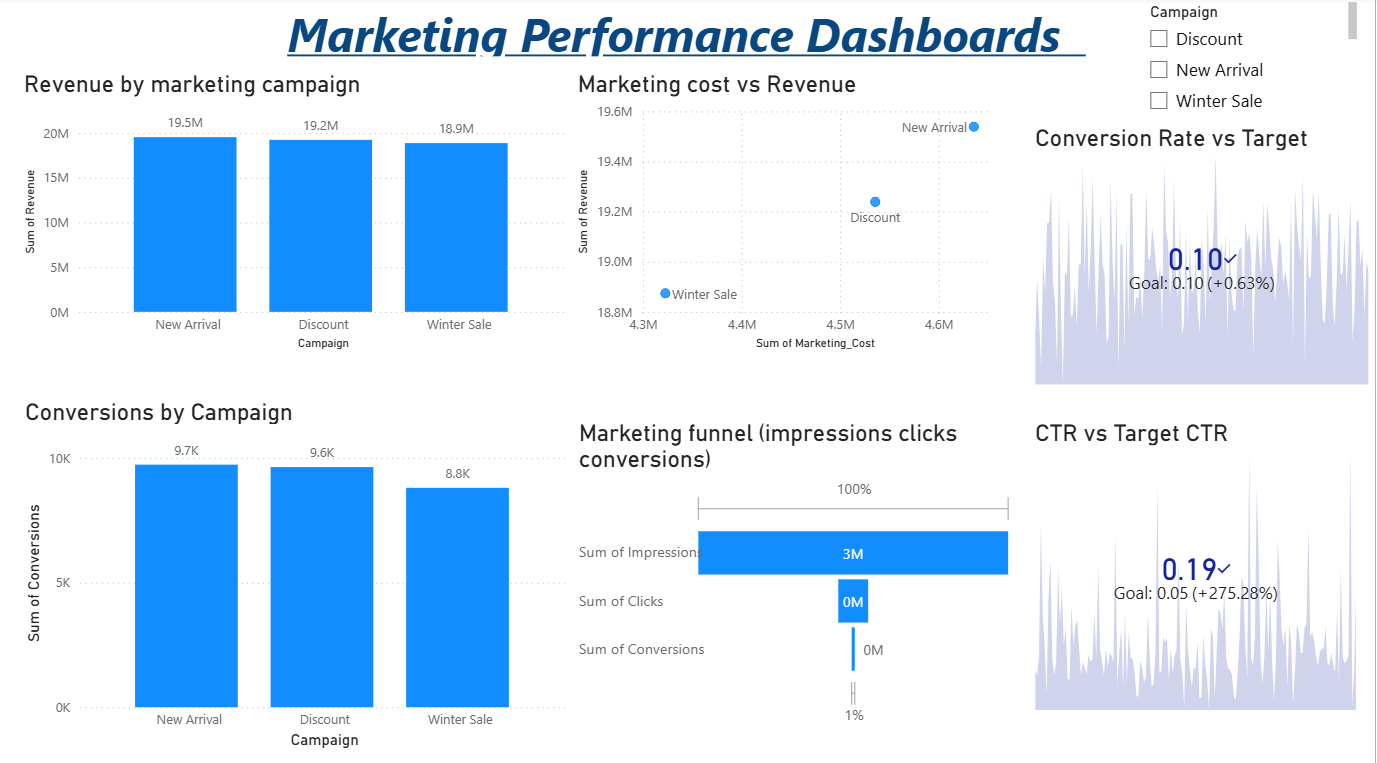

The dashboard page shown, as its layout file describes it:
{"tool":"powerbi","page":{"name":"marketing performance ","canvas":[1280,720],"ordinal":1},"visuals":[{"type":"columnChart","title":"Revenue by marketing campaign","fields":{"Category":["dim_campaign.Campaign"],"Y":["Sum(Fact_Marketing.Revenue)"]},"box":[17.1,68.6,515.7,264.3],"z":0},{"type":"columnChart","title":" Conversions by Campaign","fields":{"Category":["dim_campaign.Campaign"],"Y":["Sum(Fact_Marketing.Conversions)"]},"box":[18.6,372.9,515.7,331.4],"z":1000},{"type":"scatterChart","title":"Marketing cost vs Revenue ","fields":{"X":["Sum(Fact_Marketing.Marketing_Cost)"],"Y":["Sum(Fact_Marketing.Revenue)"],"Category":["Fact_Marketing.Campaign"]},"box":[532.9,68.6,405.7,264.3],"z":2000},{"type":"funnel","title":"Marketing funnel (impressions clicks conversions)","fields":{"Y":["Sum(Fact_Marketing.Impressions)","Sum(Fact_Marketing.Clicks)","Sum(Fact_Marketing.Conversions)"]},"box":[534.3,392.9,414.3,290],"z":3000},{"type":"kpi","title":"Conversion Rate vs Target","fields":{"TrendLine":["dim_date.Date"],"Goal":["Fact_Marketing.Target Conversion Rate"],"Indicator":["Fact_Marketing.Conversion Rate"]},"box":[958.6,118.6,320,247.1],"z":4000},{"type":"kpi","title":"CTR vs Target CTR ","fields":{"Indicator":["Fact_Marketing.CTR"],"TrendLine":["dim_date.Date"],"Goal":["Fact_Marketing.Target CTR"]},"box":[958.6,392.9,308.6,275.7],"z":5000},{"type":"textbox","box":[17.1,0,1250,60],"z":6000},{"type":"slicer","fields":{"Values":["dim_campaign.Campaign"]},"box":[1057.1,0,135.7,118.6],"z":7000}]}

Visuals, with their boxes in screenshot pixels (x1, y1, x2, y2), scaled from the page's 1280x720 canvas onto the 1377x763 screenshot:
"Revenue by marketing campaign" columnChart: 18:73:573:353
" Conversions by Campaign" columnChart: 20:395:575:746
"Marketing cost vs Revenue " scatterChart: 573:73:1010:353
"Marketing funnel (impressions clicks conversions)" funnel: 575:416:1020:724
"Conversion Rate vs Target" kpi: 1031:126:1375:388
"CTR vs Target CTR " kpi: 1031:416:1363:709
textbox: 18:0:1363:64
slicer - dim_campaign.Campaign: 1137:0:1283:126
